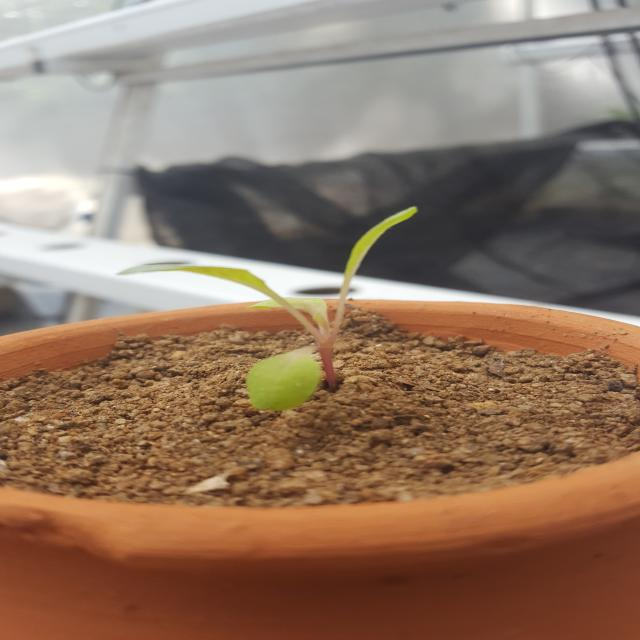Lettuce-Not-Ready-to-Harvest: (146, 208, 432, 402)
